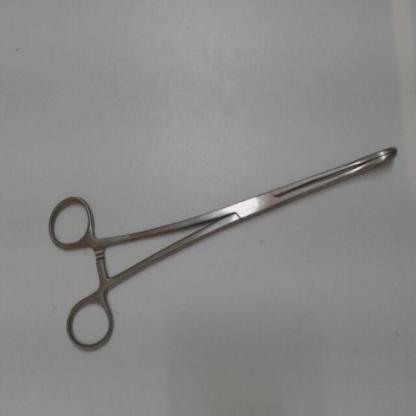Sponge Forceps: (39, 140, 408, 359)
